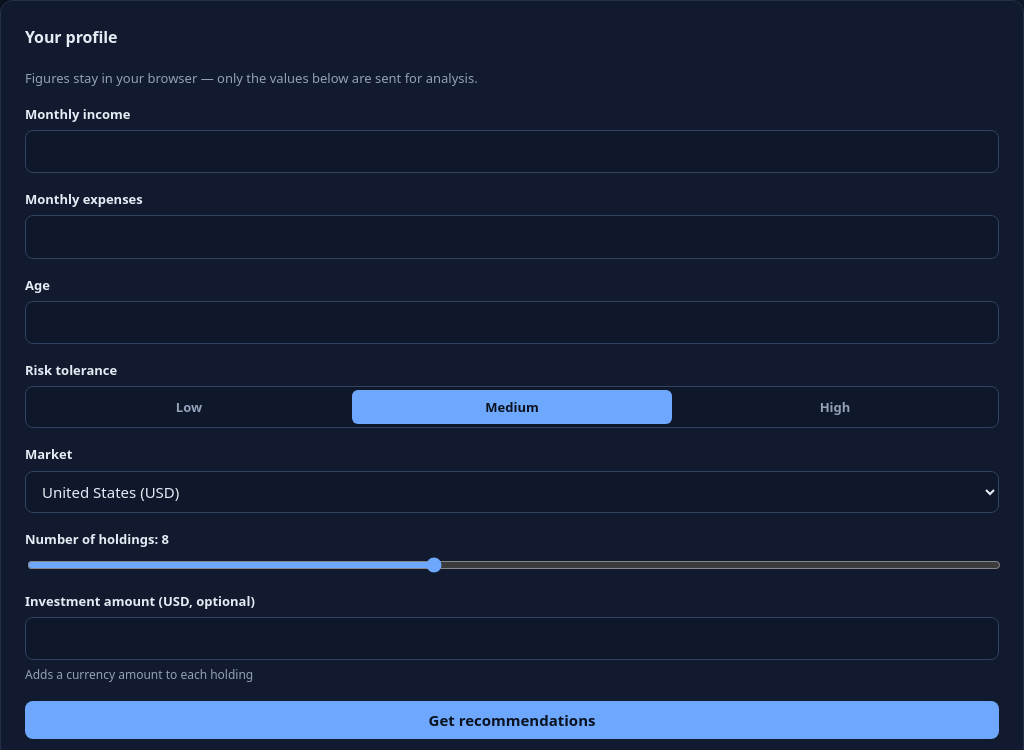
Test case: ProfileForm › clears a field error once the user edits the field
The width and height of the screenshot is (1024, 750).
Click the button "Get recommendations" at (512, 720), box x1=25 y1=701 x2=999 y2=739
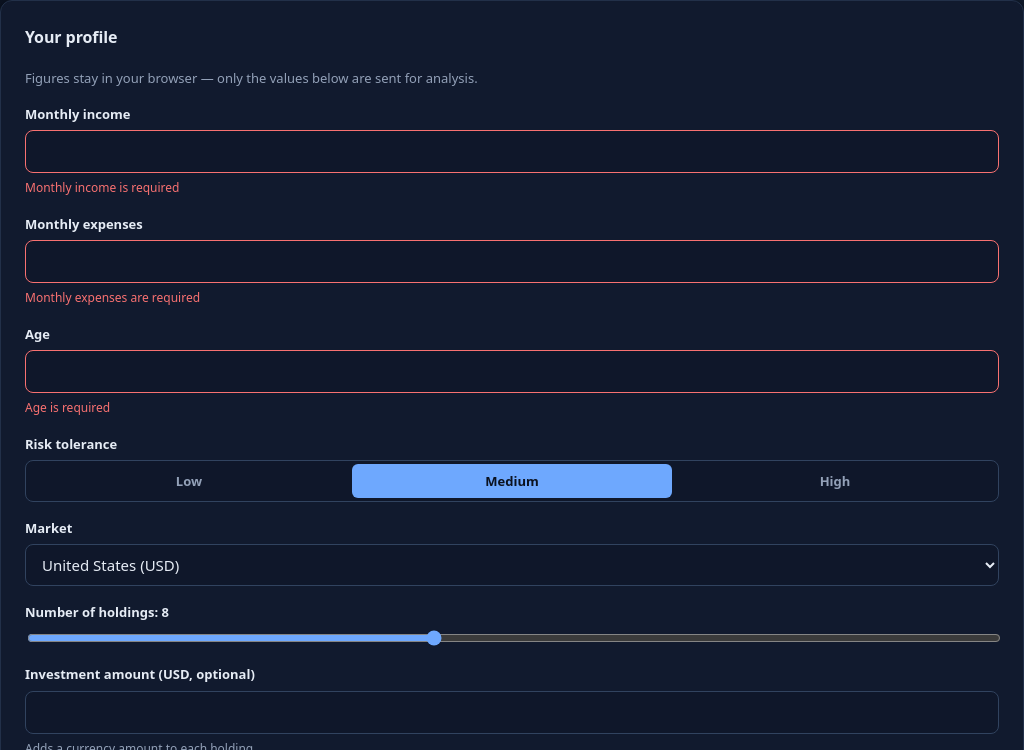
Type "1" into the number field labelled "Monthly income" at (512, 152), box x1=25 y1=130 x2=999 y2=173
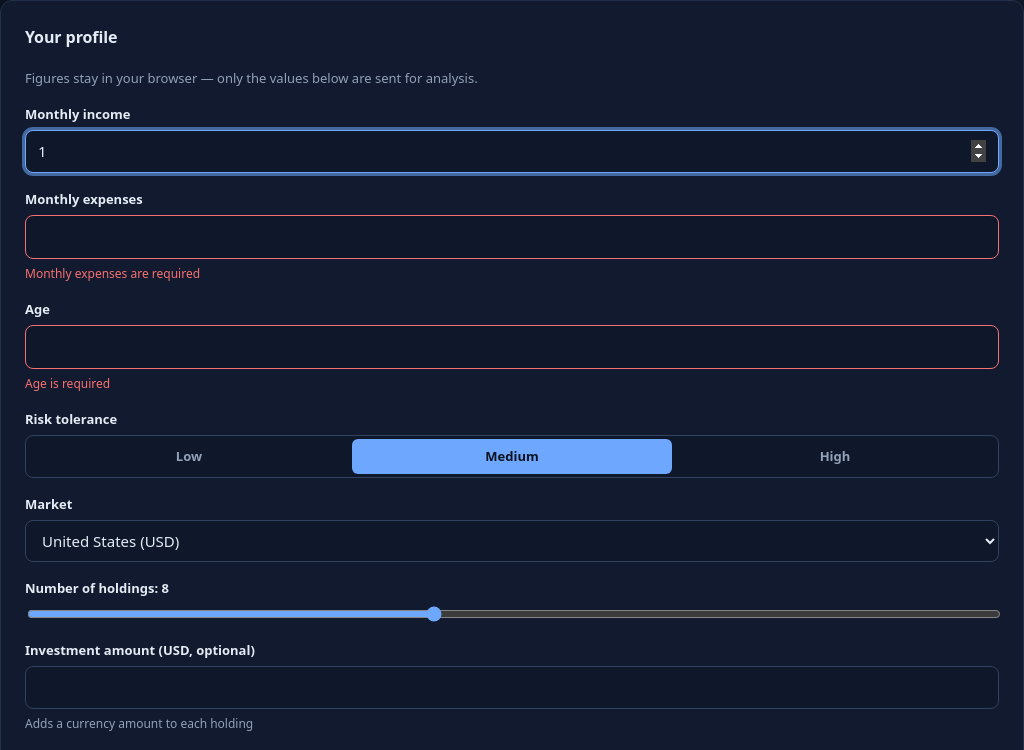
Expected: the text "Monthly income is required" is gone
